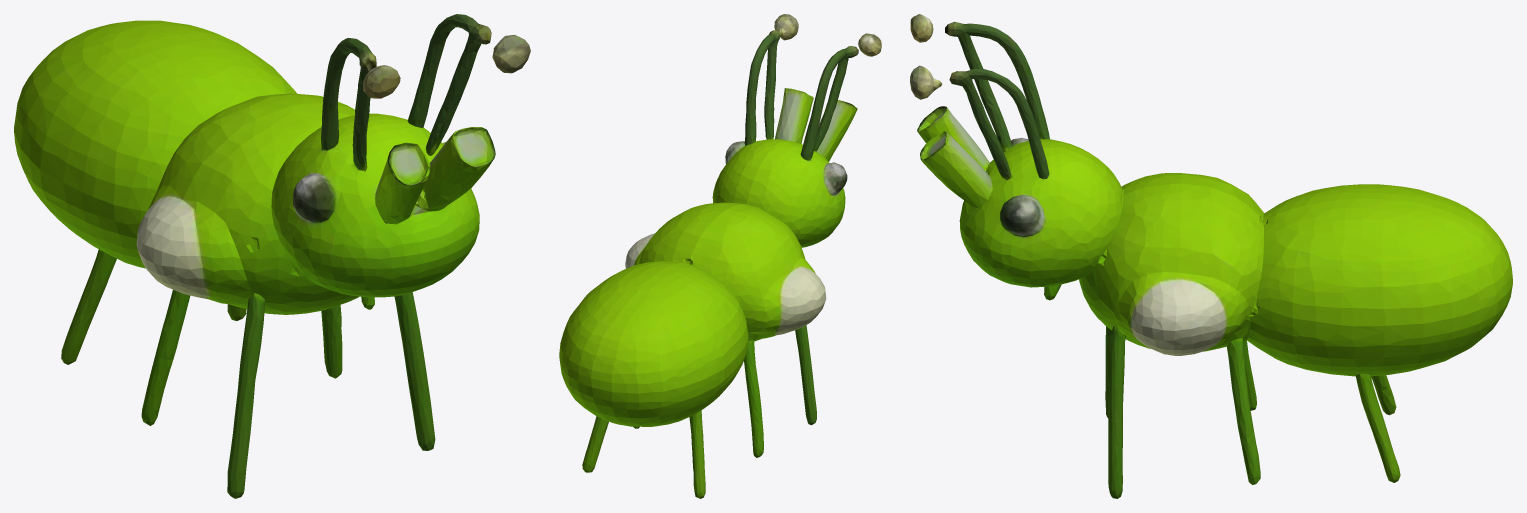
File: 023-mantiseed.glb
The picture shows the model from 3 angles, left to right: view 1: azimuth 30°, elevation 25°; view 2: azimuth 150°, elevation 25°; view 3: azimuth 270°, elevation 25°; orthographic projection. The views are drawn at different scales.
Parts seen in each view (by area): view 1: geometry_0; view 2: geometry_0; view 3: geometry_0.
Boxes of the visible parts, box(x1,y1,x2,y2) form: geometry_0: box(14, 14, 530, 498); geometry_0: box(559, 14, 881, 498); geometry_0: box(910, 14, 1512, 498).
Bounding box in the file's own units: 0.4622 × 0.763 × 0.9984.
Materials: 1 (1 with a texture image).
